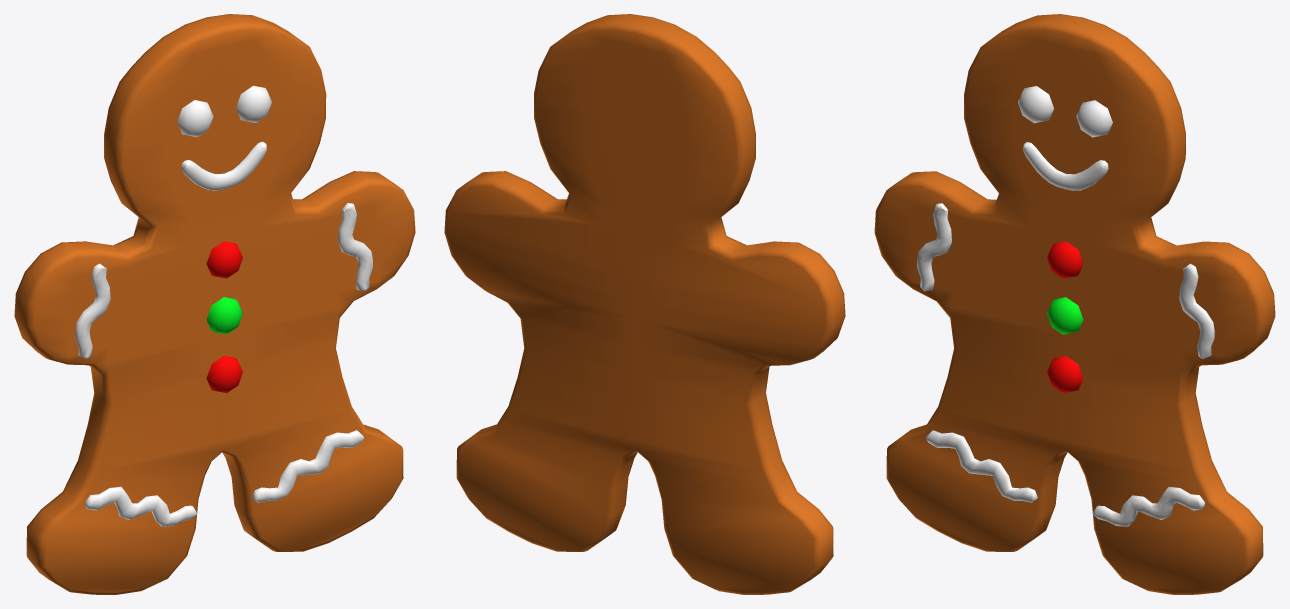
The model's file is gingerbread.glb.
3 renders of one model, left to right at view 1: azimuth 30°, elevation 25°; view 2: azimuth 150°, elevation 25°; view 3: azimuth 330°, elevation 25°, orthographic.
Parts seen in each view (by area): view 1: gingerbread man; view 2: gingerbread man; view 3: gingerbread man.
Boxes of the visible parts, box(x1,y1,x2,y2) form: gingerbread man: box(14, 14, 415, 594); gingerbread man: box(444, 14, 845, 594); gingerbread man: box(874, 14, 1275, 594).
Bounding box in the file's own units: 193 × 258 × 22.
1 material, 1 textured.
